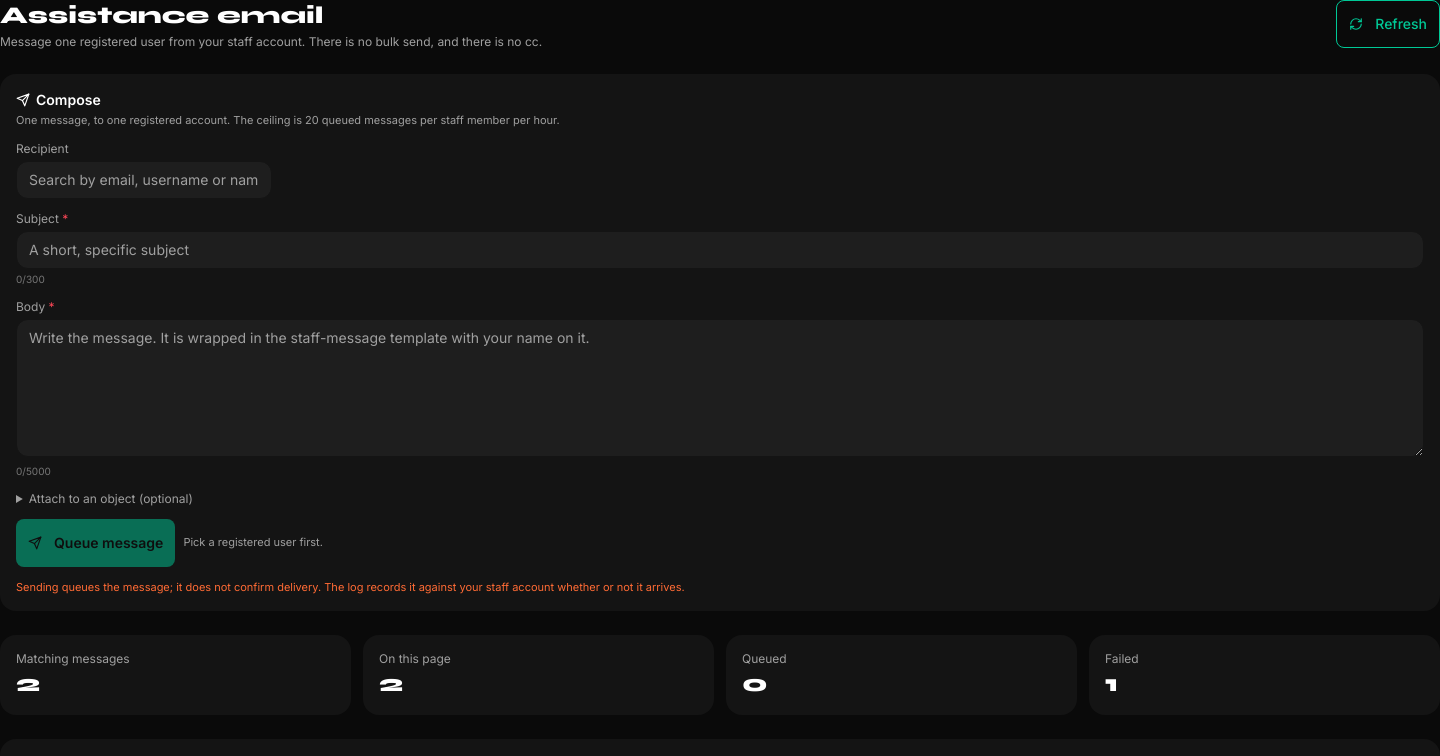
Test: AdminEmail — send › tells the operator when a search finds no account
expect the field named "Email subject" is shown: met, box [16, 230, 1424, 268]
Type "nobody" into the field named "Search for the recipient" at [144, 180], box [16, 160, 272, 198]
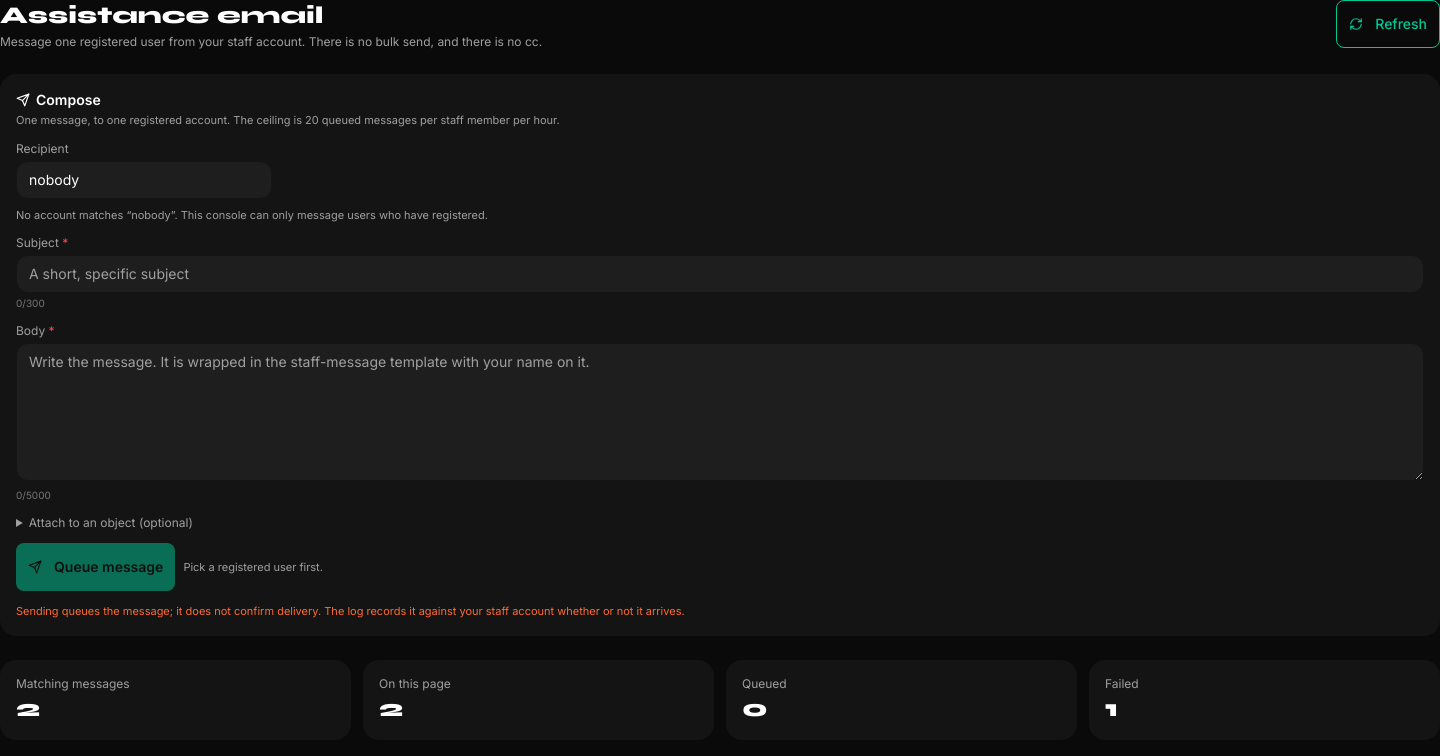
expect the text "No account matches" is shown: met, box [16, 208, 131, 222]
